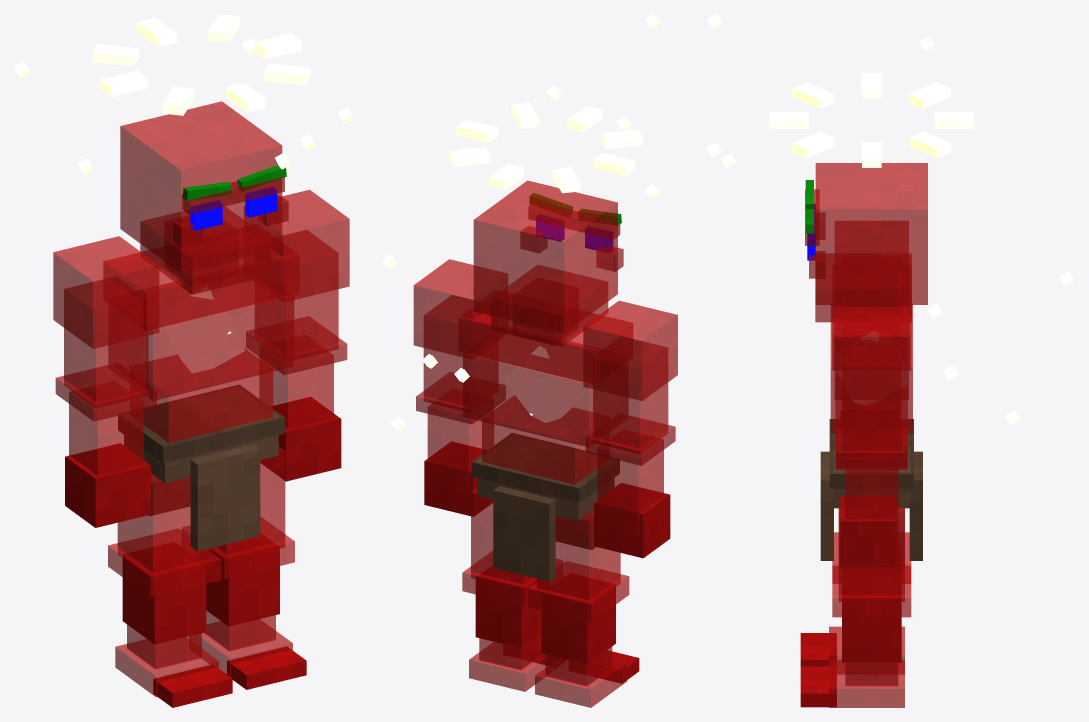
File: spirit_s4.glb
The picture shows the model from 3 angles, left to right: view 1: azimuth 30°, elevation 25°; view 2: azimuth 150°, elevation 25°; view 3: azimuth 270°, elevation 25°; orthographic projection. The views are drawn at different scales.
Visible parts, largest first — view 1: Torso, Head, ArmR, ArmL, LegR, LegL; view 2: Torso, Head, ArmR, ArmL, LegR, LegL; view 3: Head, ArmL, Torso, LegL, LegR, ArmR.
Part boxes in pixels (x1,y1,x2,y2): Torso: (14, 38, 353, 551); Head: (92, 14, 310, 294); ArmR: (53, 236, 159, 527); ArmL: (244, 189, 349, 481); LegR: (108, 473, 232, 707); LegL: (182, 447, 306, 689); Torso: (382, 14, 660, 581); Head: (448, 102, 642, 346); ArmR: (583, 300, 677, 558); ArmL: (413, 259, 507, 516); LegR: (528, 509, 639, 707); LegL: (462, 488, 562, 691); Head: (769, 72, 974, 322); ArmL: (834, 307, 908, 567); Torso: (706, 14, 1074, 560); LegL: (800, 508, 911, 707); LegR: (800, 509, 911, 673); ArmR: (835, 221, 908, 252).
Size of the model in its own units: 0.985 by 2.16 by 1.12.
19 materials, 19 textured.
